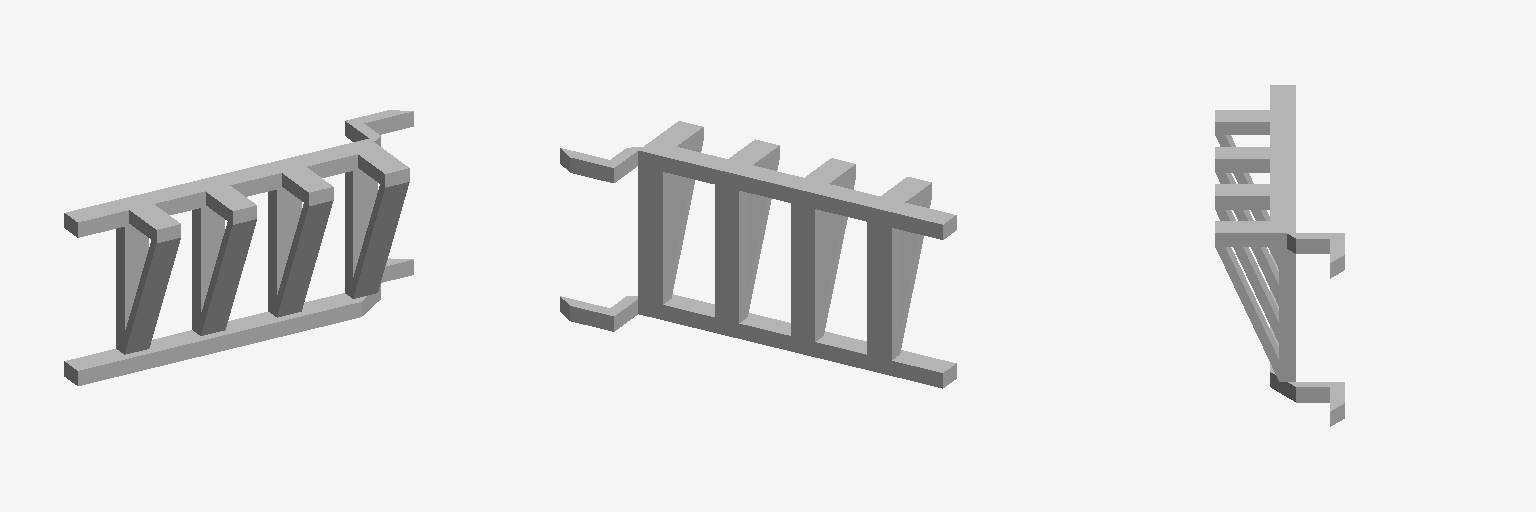
File: armL.obj
The picture shows the model from 3 angles: view 1: azimuth 30°, elevation 25°; view 2: azimuth 150°, elevation 25°; view 3: azimuth 270°, elevation 25°; orthographic projection.
Parts seen in each view (by area): view 1: Mesh9 Group5 Group1 Model, Mesh4 Group3 Group1 Model, Mesh1 Group2 Group1 Model, Mesh14 Group7 Group1 Model, Mesh6 Group4 Group1 Model, Mesh11 Group6 Group1 Model; view 2: Mesh4 Group3 Group1 Model, Mesh9 Group5 Group1 Model, Mesh6 Group4 Group1 Model, Mesh1 Group2 Group1 Model, Mesh14 Group7 Group1 Model, Mesh11 Group6 Group1 Model; view 3: Mesh6 Group4 Group1 Model, Mesh4 Group3 Group1 Model, Mesh1 Group2 Group1 Model, Mesh14 Group7 Group1 Model, Mesh11 Group6 Group1 Model, Mesh9 Group5 Group1 Model.
Boxes of the visible parts, <box> form: Mesh9 Group5 Group1 Model: <box>64,258,413,385</box>; Mesh4 Group3 Group1 Model: <box>64,110,413,237</box>; Mesh1 Group2 Group1 Model: <box>268,160,333,317</box>; Mesh14 Group7 Group1 Model: <box>192,178,256,335</box>; Mesh6 Group4 Group1 Model: <box>345,139,409,298</box>; Mesh11 Group6 Group1 Model: <box>116,204,180,354</box>; Mesh4 Group3 Group1 Model: <box>560,146,956,239</box>; Mesh9 Group5 Group1 Model: <box>560,294,956,388</box>; Mesh6 Group4 Group1 Model: <box>638,121,703,304</box>; Mesh1 Group2 Group1 Model: <box>715,139,779,322</box>; Mesh14 Group7 Group1 Model: <box>791,158,855,341</box>; Mesh11 Group6 Group1 Model: <box>867,177,931,360</box>; Mesh6 Group4 Group1 Model: <box>1215,221,1295,381</box>; Mesh4 Group3 Group1 Model: <box>1270,85,1344,278</box>; Mesh1 Group2 Group1 Model: <box>1215,184,1295,342</box>; Mesh14 Group7 Group1 Model: <box>1215,147,1295,305</box>; Mesh11 Group6 Group1 Model: <box>1215,110,1295,268</box>; Mesh9 Group5 Group1 Model: <box>1270,252,1344,426</box>.
Bounding box in the file's own units: 2064 × 881 × 632.